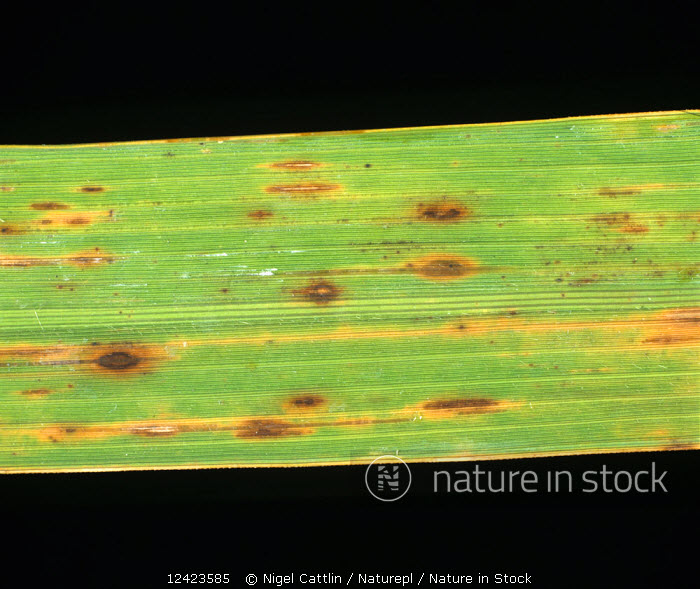Bercak Coklat: (396, 237, 492, 292), (77, 334, 158, 387), (285, 266, 352, 319), (229, 409, 304, 452), (419, 387, 503, 422), (403, 189, 477, 226), (284, 383, 332, 414), (48, 419, 89, 452), (236, 203, 281, 227), (20, 193, 73, 213), (73, 176, 112, 197)
